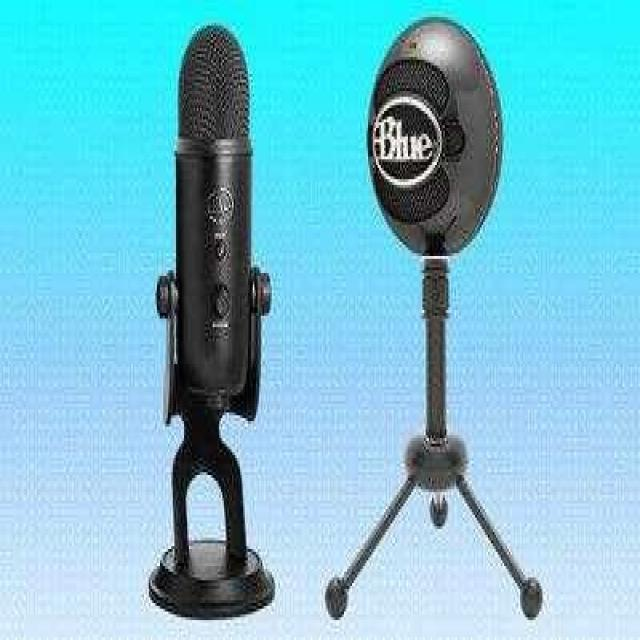microphone: (173, 25, 254, 414), (367, 18, 498, 254)
